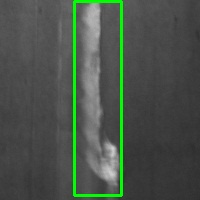scratches: (74, 1, 121, 195)
